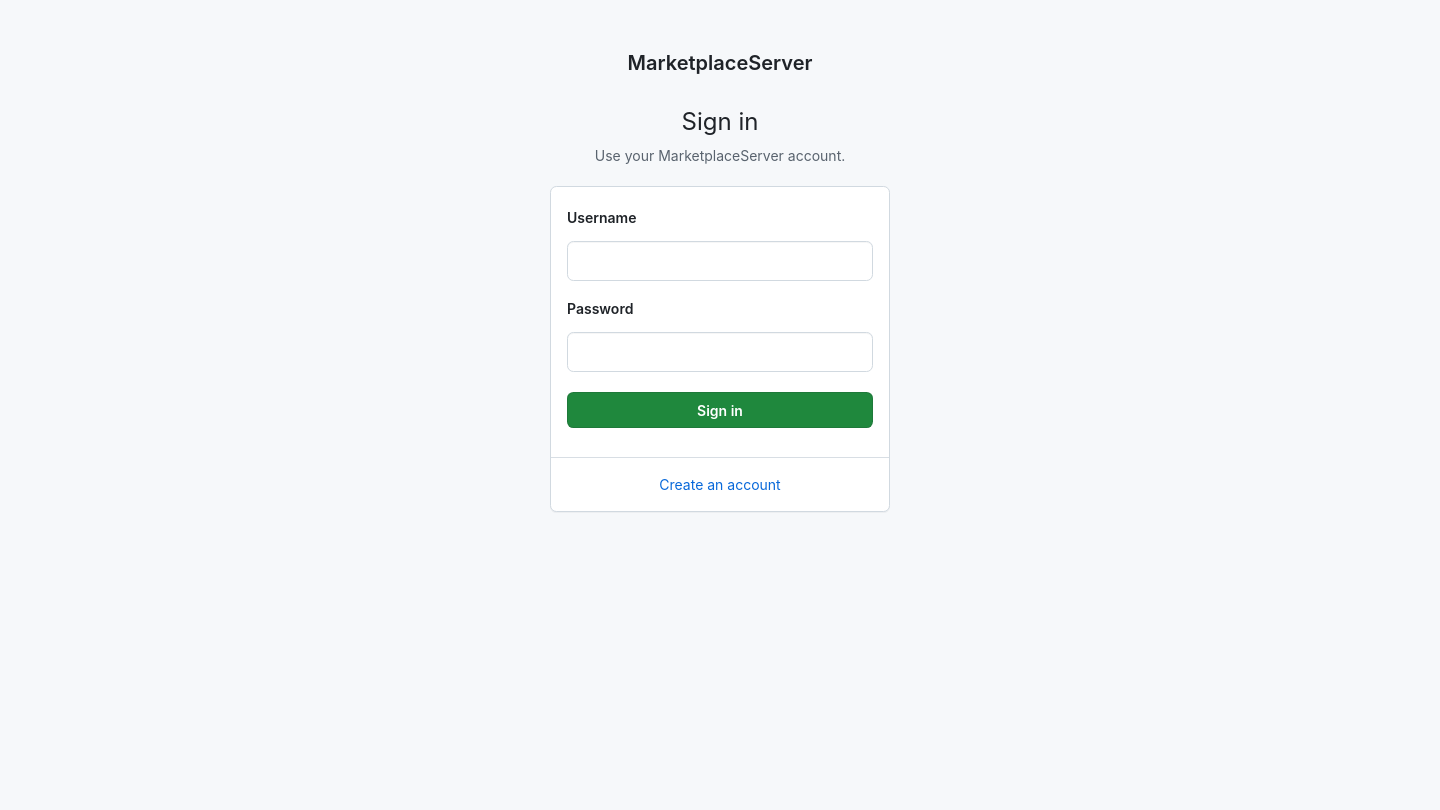
Test: identity console › logs in without persisting the password and logs out
The image size is (1440, 810).
Type "alice" into the field labelled "Username". click: x=720, y=261
box: [567, 241, 873, 281]
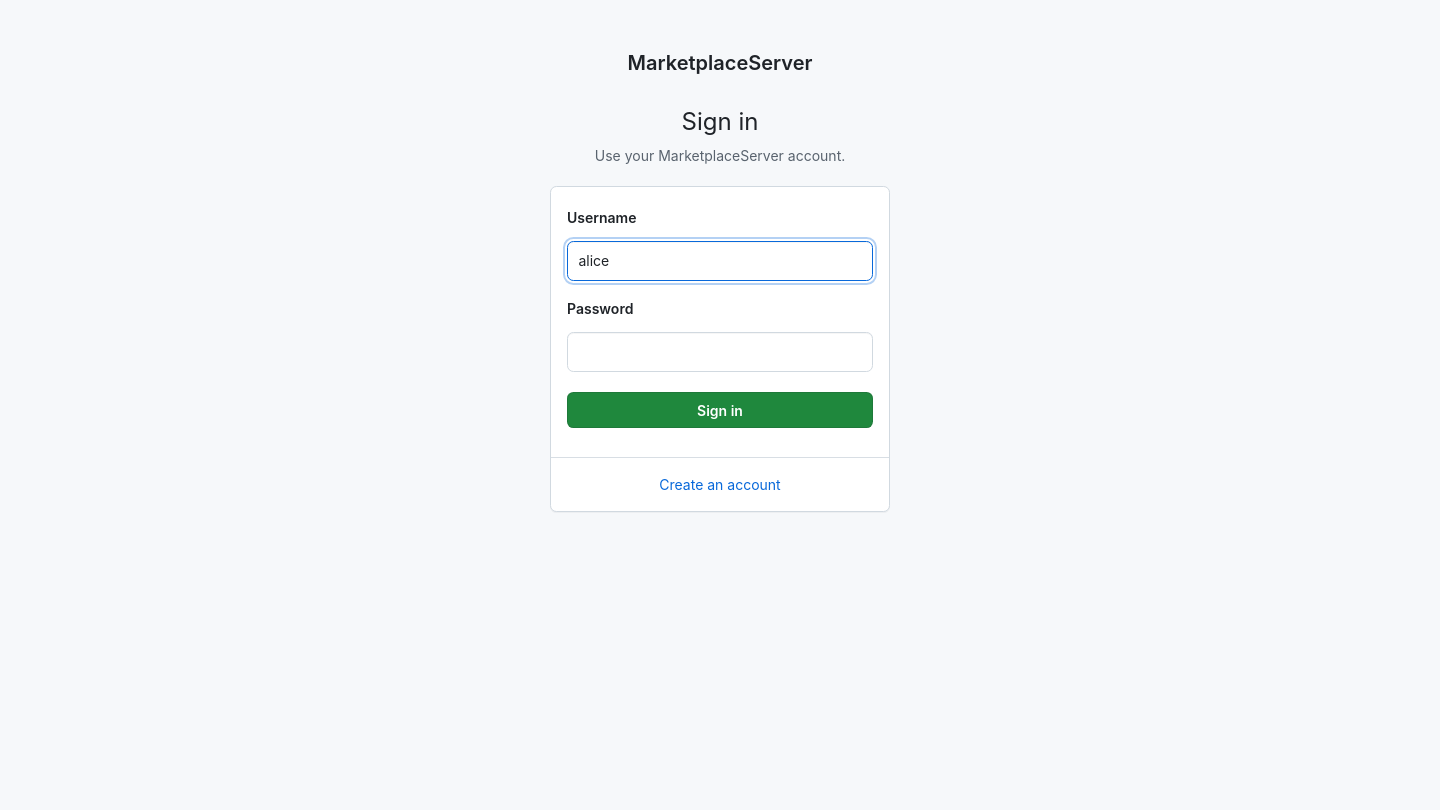
Type "correct horse" into the password field labelled "Password". click: x=720, y=352
box: [567, 332, 873, 372]
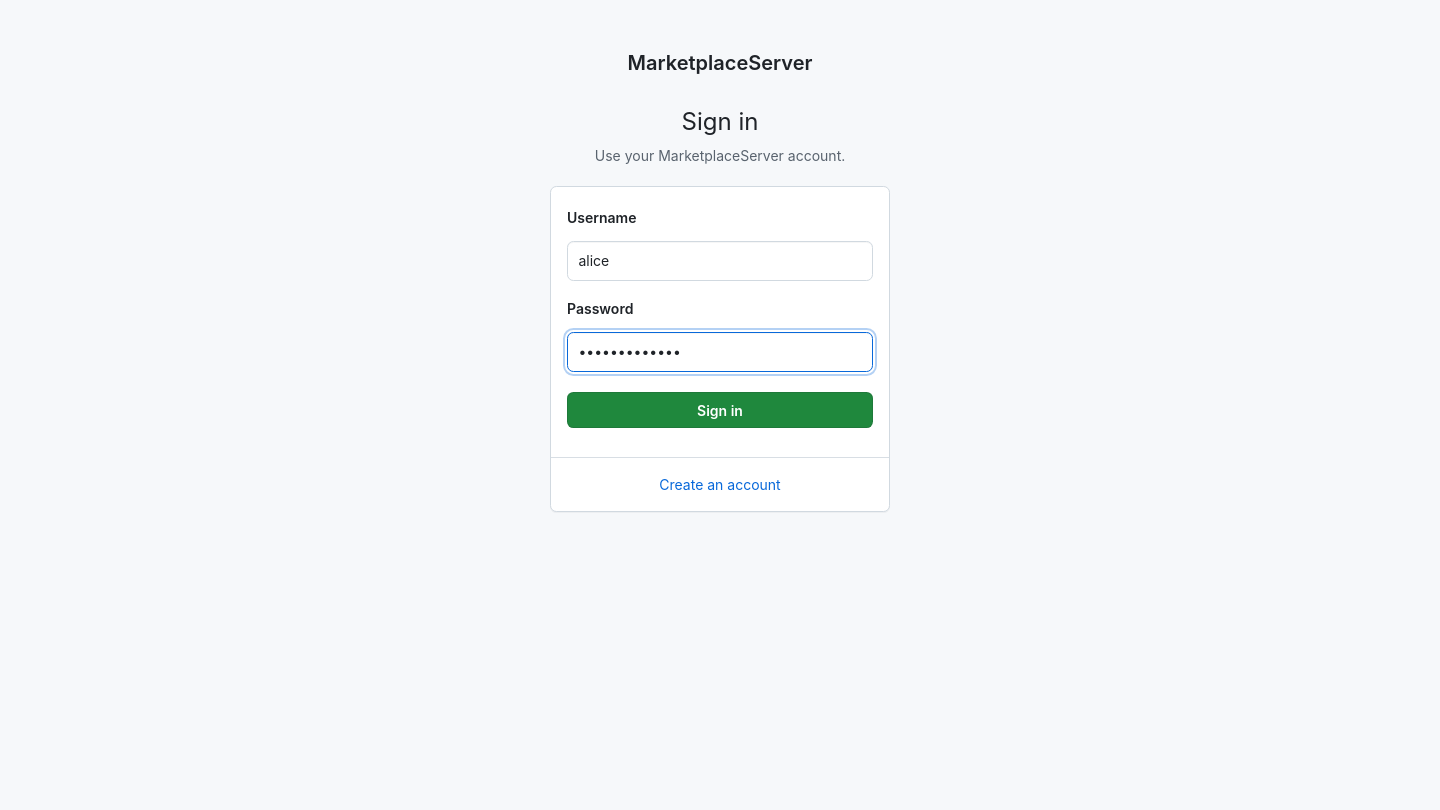
Click the button "Sign in". click: x=720, y=410
box: [567, 392, 873, 428]
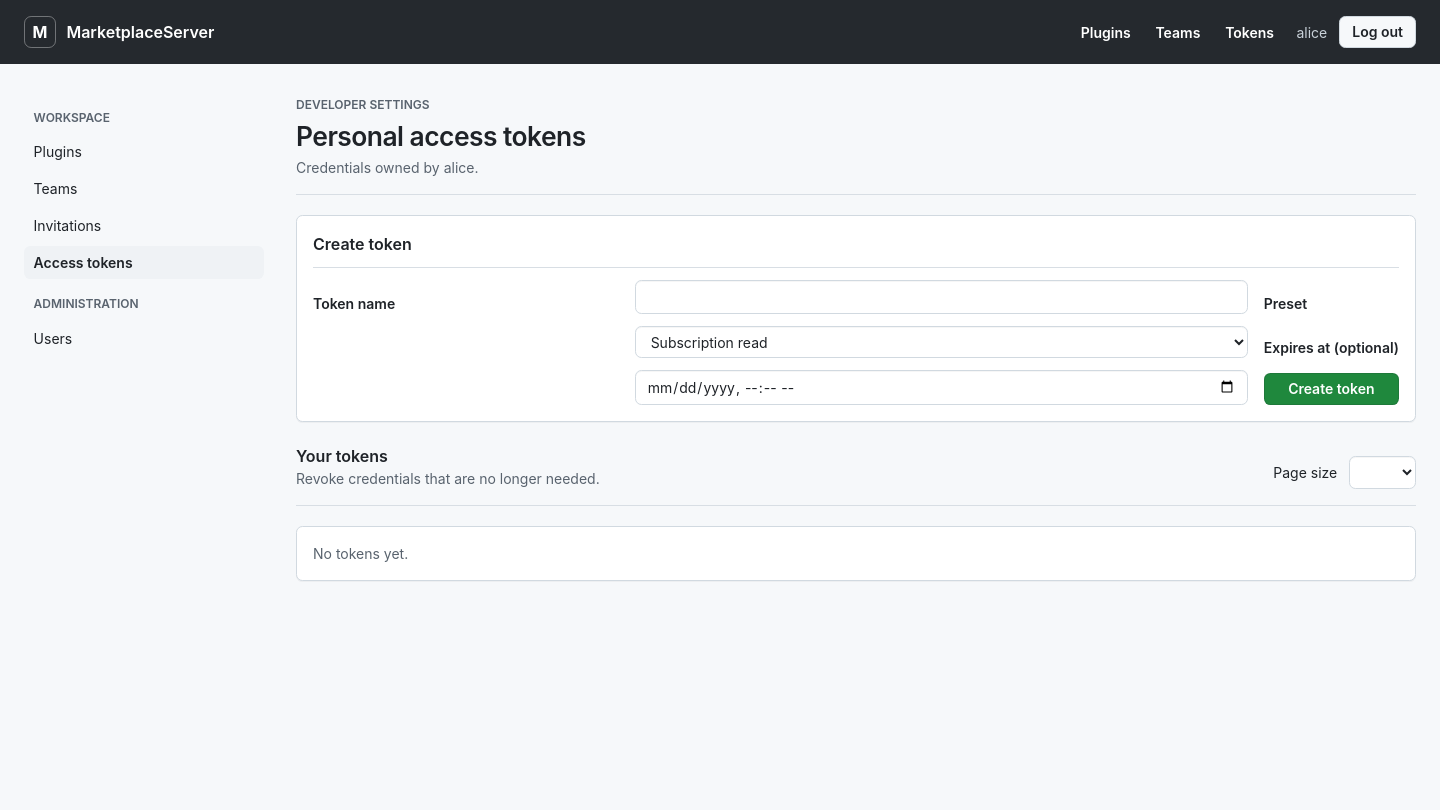
Result: the heading "Personal access tokens" is shown at [296, 117, 586, 157]
Result: the text "alice" is shown at [1296, 24, 1327, 40]
Result: the link "Users" is shown at [34, 330, 72, 347]
Click the button "Log out". click: x=1378, y=32
box: [1339, 16, 1416, 48]
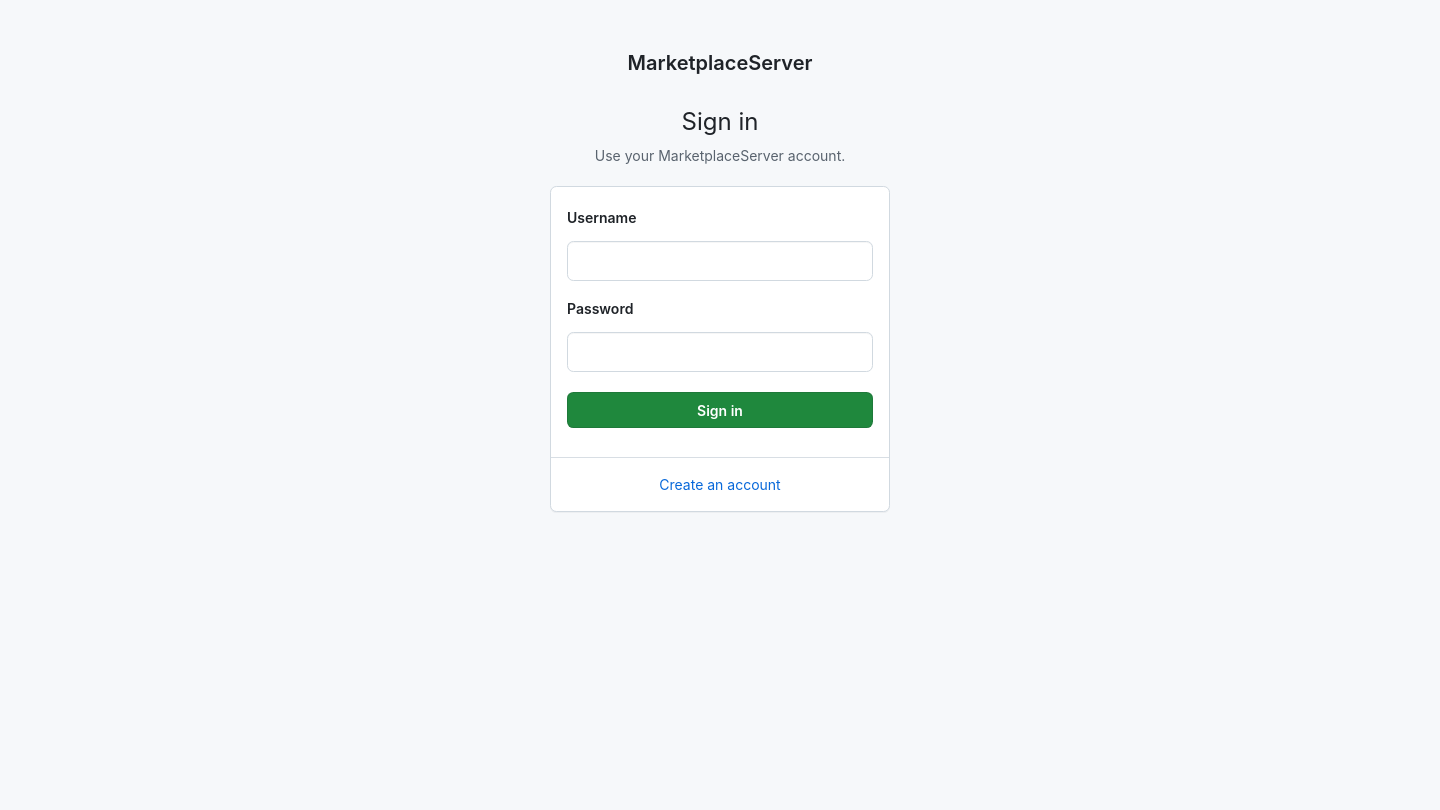
Result: the button "Sign in" is shown at [567, 392, 873, 428]
